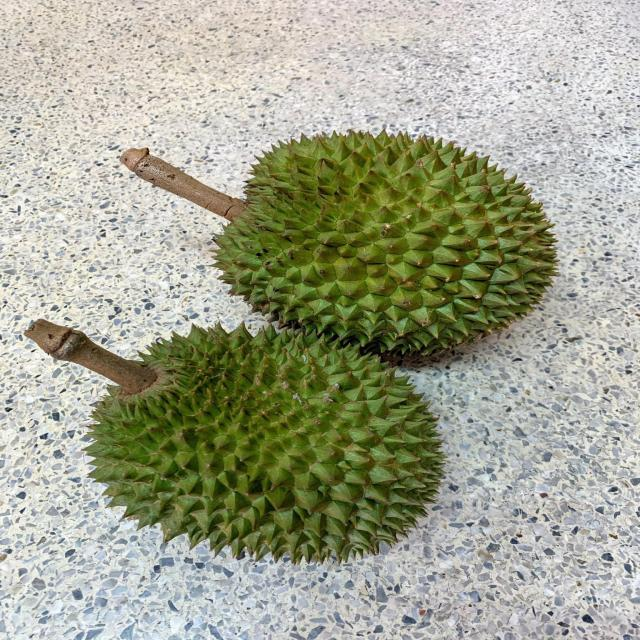immature: (85, 321, 448, 567), (207, 126, 562, 360)
